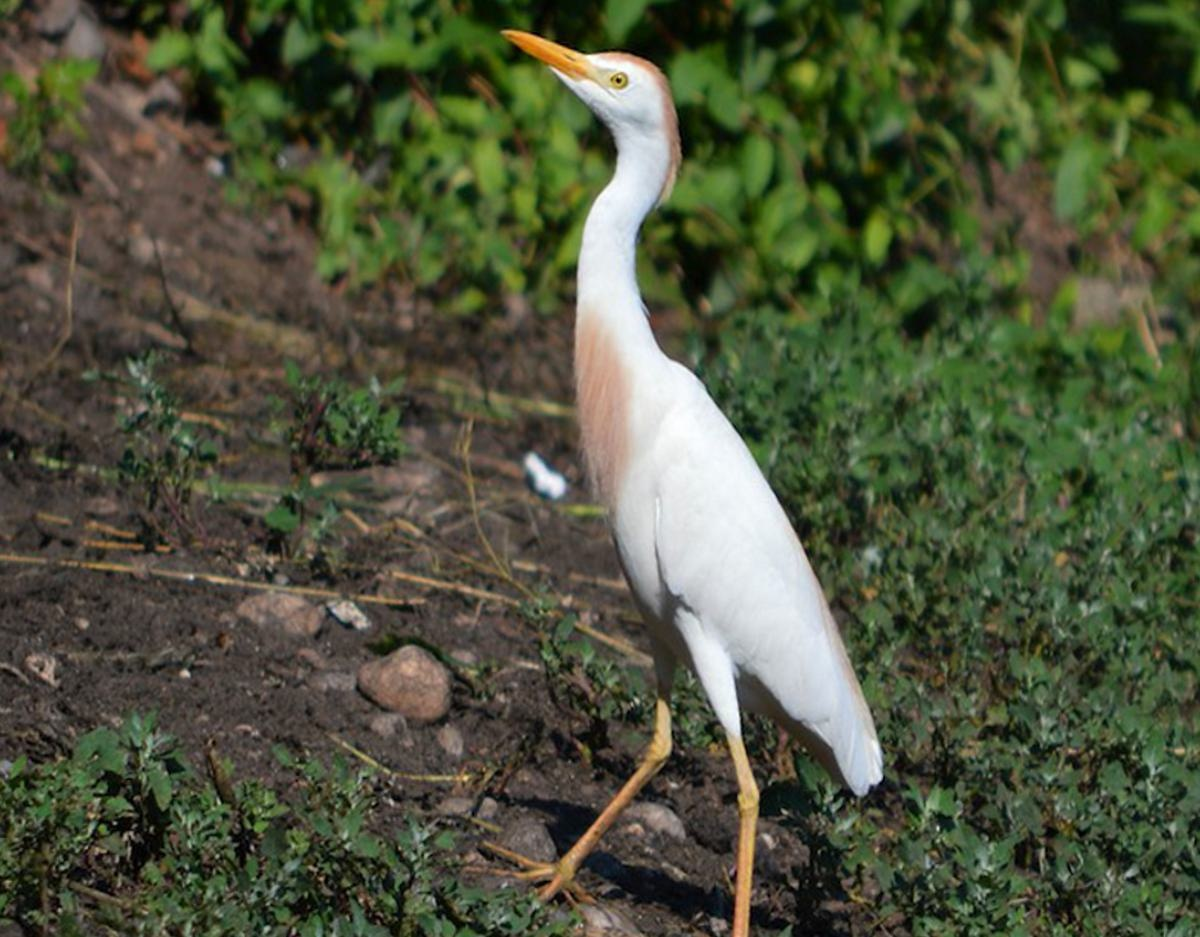egret: (482, 20, 891, 923)
